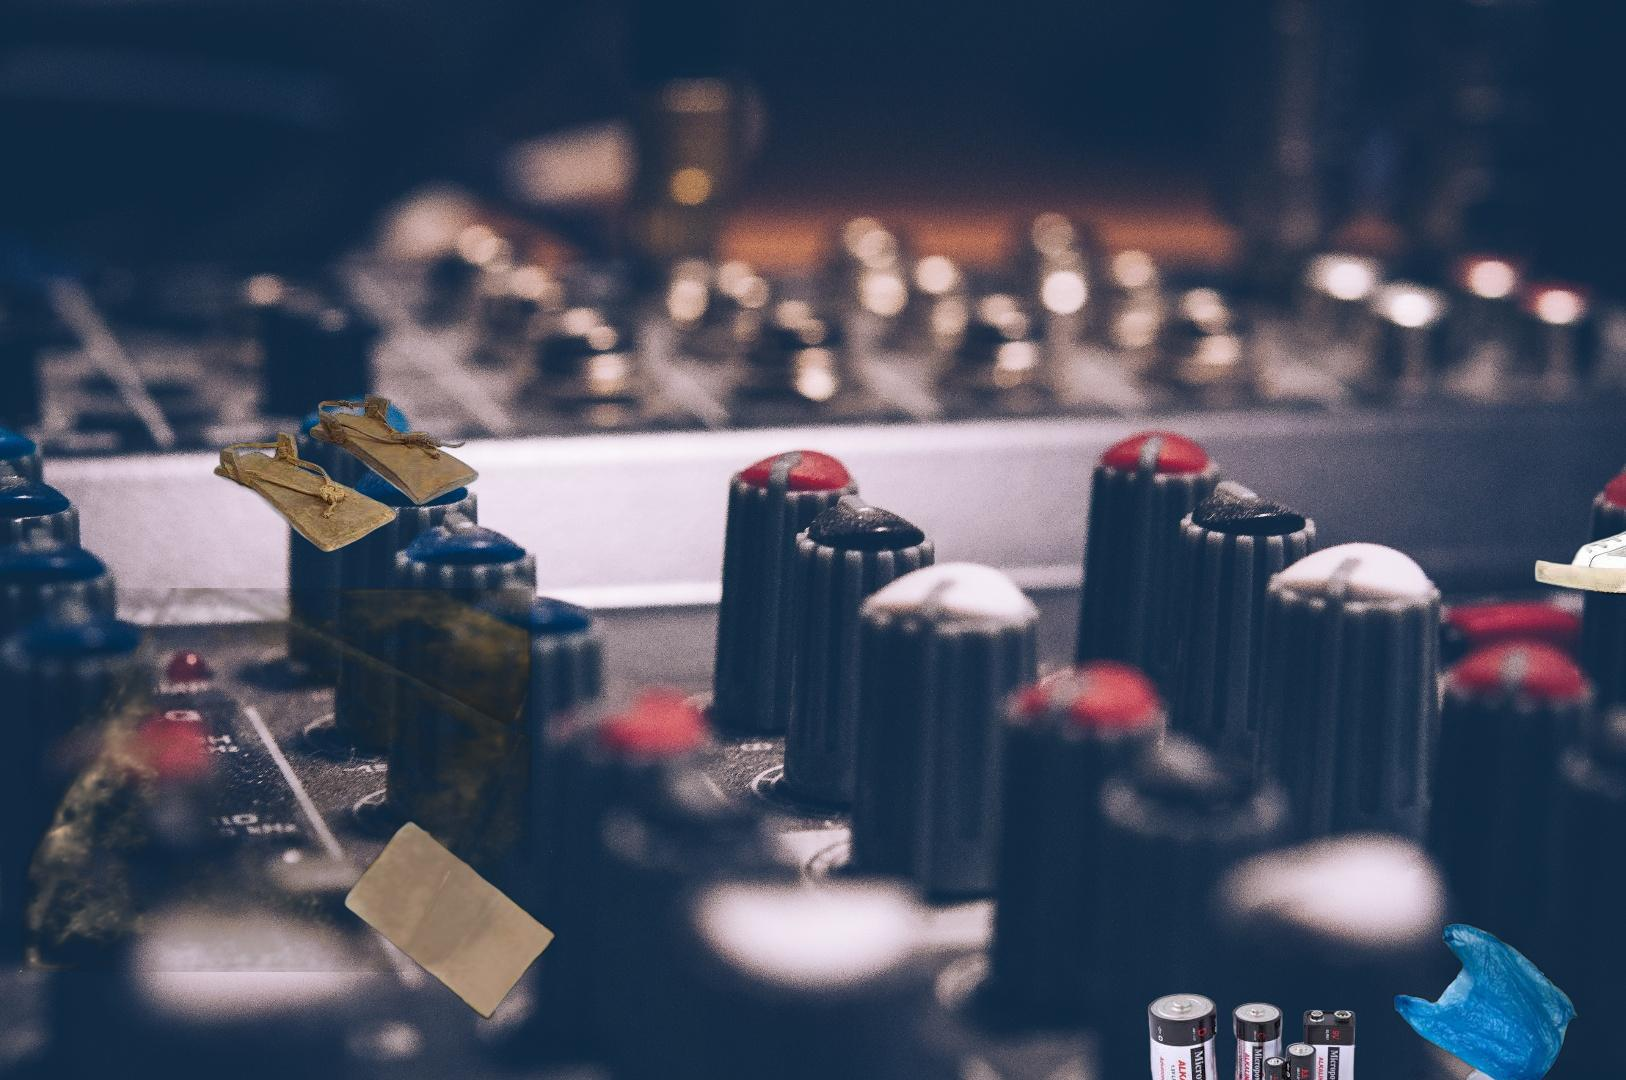battery: (1147, 990, 1358, 1080)
paper: (1389, 1052, 1626, 1080)
paper-bag: (341, 808, 558, 1025)
plastic-bag: (1391, 884, 1581, 1080)
shoes: (207, 391, 488, 560), (1532, 500, 1626, 597)
trashbox-cardboard: (20, 588, 532, 972)
